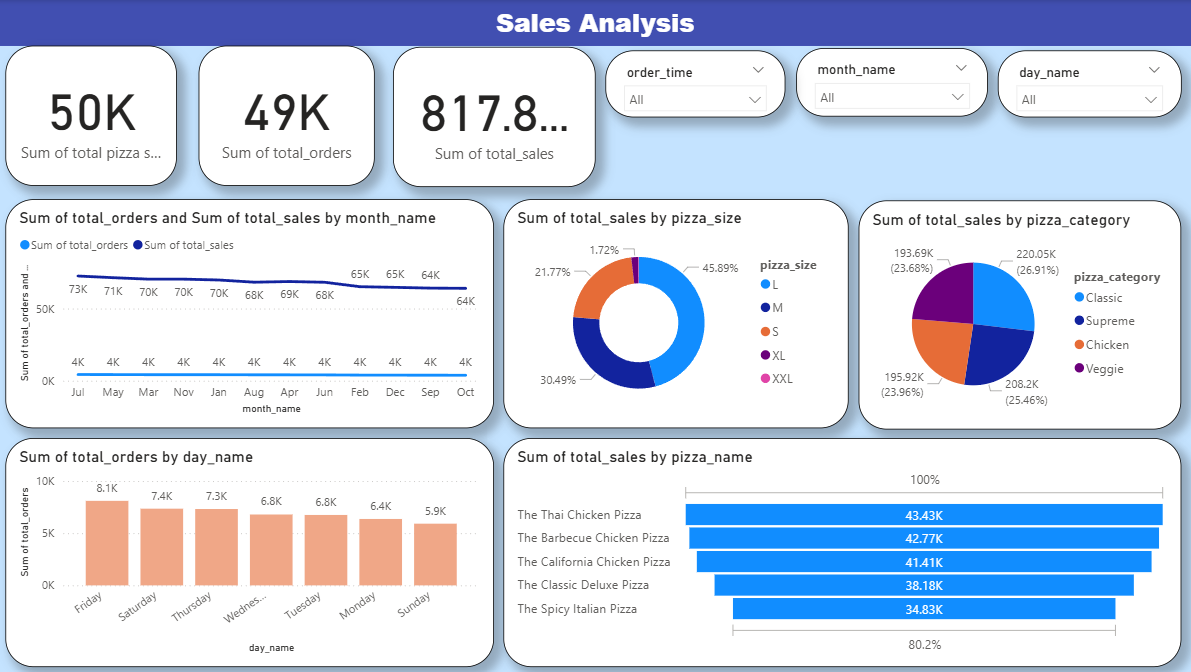

This screenshot's page, from the dashboard's own definition file:
{"tool":"powerbi","page":{"name":"Page 1","canvas":[1280,720],"ordinal":0},"visuals":[{"type":"textbox","box":[0,0,1279.4,49.3],"z":0},{"type":"card","fields":{"Values":["Sum(pizza_aggregate.quantity)"]},"box":[9,48.8,183.5,150.1],"z":1000},{"type":"card","fields":{"Values":["Sum(pizza_aggregate.order_id)"]},"box":[215.6,48.8,188.6,150.1],"z":2000},{"type":"card","fields":{"Values":["Sum(pizza_aggregate.total_price)"]},"box":[423.5,50,216.9,150.1],"z":3000},{"type":"lineChart","fields":{"Category":["pizza_aggregate.month_name"],"Y":["Sum(pizza_aggregate.order_id)","Sum(pizza_aggregate.total_sales)"]},"box":[9,213,522.3,245.1],"z":4000},{"type":"columnChart","fields":{"Y":["Sum(pizza_aggregate.total_orders)"],"Category":["pizza_aggregate.day_name"]},"box":[9,468.4,522.3,245.1],"z":5000},{"type":"donutChart","fields":{"Category":["pizza_aggregate.pizza_size"],"Y":["Sum(pizza_aggregate.total_sales)"]},"box":[541.5,213,369.6,245.1],"z":5001},{"type":"pieChart","fields":{"Category":["pizza_aggregate.pizza_category"],"Y":["Sum(pizza_aggregate.total_sales)"]},"box":[921.4,214.3,345.2,245.1],"z":5002},{"type":"funnel","fields":{"Category":["pizza_aggregate.pizza_name"],"Y":["Sum(pizza_aggregate.total_sales)"]},"box":[541.5,468.4,725,245.1],"z":5003},{"type":"slicer","fields":{"Values":["pizza_aggregate.month_name"]},"box":[854.6,51.3,205.3,73.1],"z":5004},{"type":"slicer","fields":{"Values":["pizza_aggregate.day_name"]},"box":[1070.2,53.9,196.3,71.9],"z":5005},{"type":"slicer","fields":{"Values":["pizza_aggregate.order_time"]},"box":[650.6,53.9,192.5,71.9],"z":5006}]}

Visuals, with their boxes in screenshot pixels (x1, y1, x2, y2), scaled from the page's 1280x720 canvas onto the 1191x672 screenshot:
textbox: bbox=(0, 0, 1190, 46)
card - Sum(pizza_aggregate.quantity): bbox=(8, 46, 179, 186)
card - Sum(pizza_aggregate.order_id): bbox=(201, 46, 376, 186)
card - Sum(pizza_aggregate.total_price): bbox=(394, 47, 596, 187)
lineChart - pizza_aggregate.month_name x Sum(pizza_aggregate.order_id): bbox=(8, 199, 494, 428)
columnChart - Sum(pizza_aggregate.total_orders) x pizza_aggregate.day_name: bbox=(8, 437, 494, 666)
donutChart - pizza_aggregate.pizza_size x Sum(pizza_aggregate.total_sales): bbox=(504, 199, 848, 428)
pieChart - pizza_aggregate.pizza_category x Sum(pizza_aggregate.total_sales): bbox=(857, 200, 1179, 429)
funnel - pizza_aggregate.pizza_name x Sum(pizza_aggregate.total_sales): bbox=(504, 437, 1178, 666)
slicer - pizza_aggregate.month_name: bbox=(795, 48, 986, 116)
slicer - pizza_aggregate.day_name: bbox=(996, 50, 1178, 117)
slicer - pizza_aggregate.order_time: bbox=(605, 50, 784, 117)
